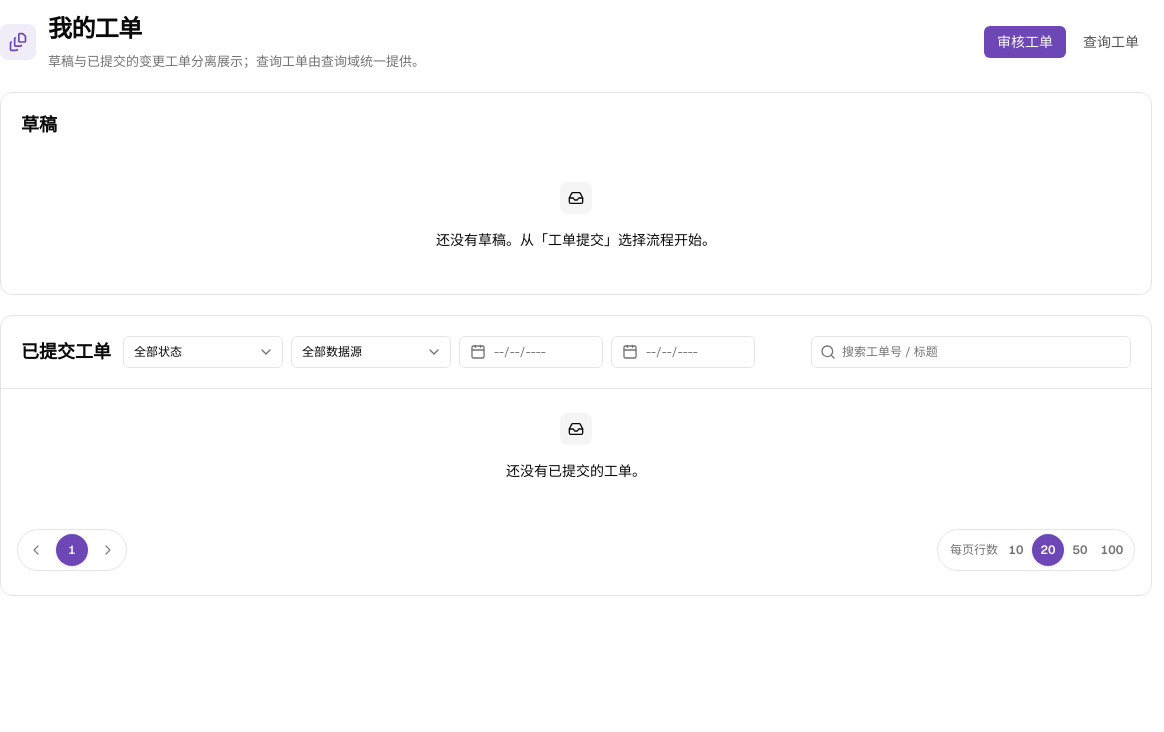
Test: MinePage › renders the unified query-orders tab with its empty state
The width and height of the screenshot is (1164, 732).
Click the tab with test id "tab-query-orders" at (1111, 42), box x1=1070 y1=26 x2=1152 y2=58
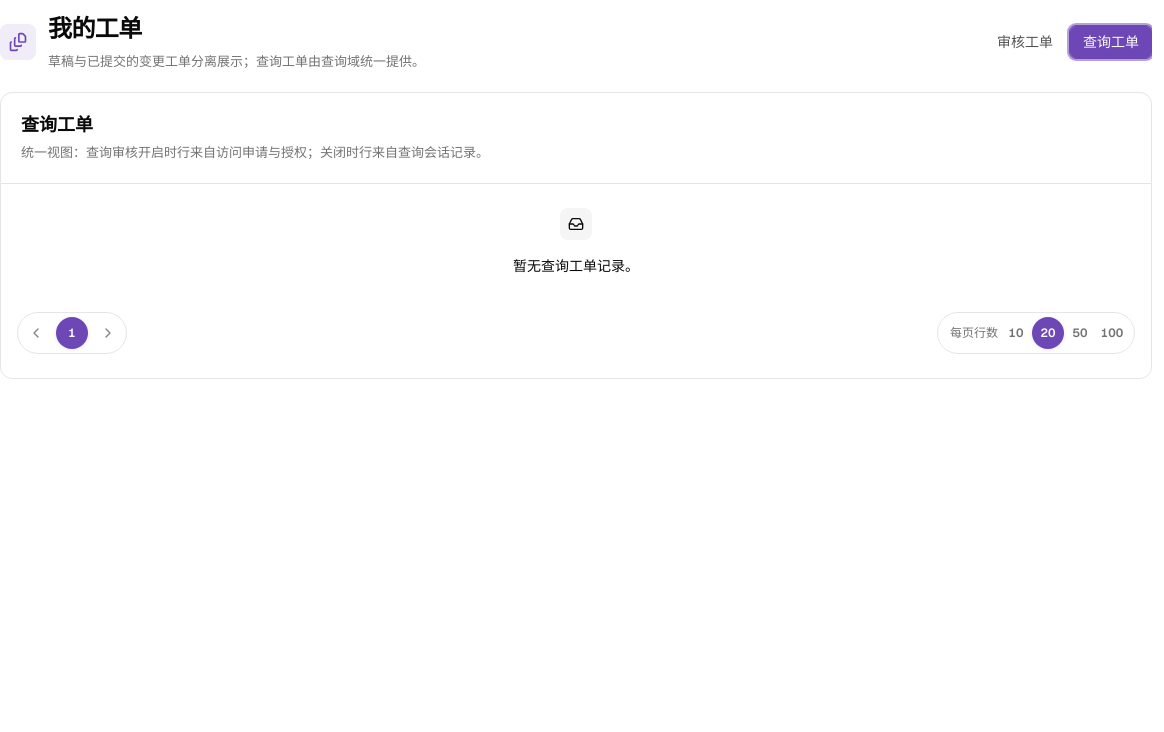
Now the element with test id "orders-query-empty" is shown, box x1=513 y1=208 x2=639 y2=275
Now the element with test id "orders-query-empty" reads "暂无查询工单记录。", box x1=513 y1=257 x2=639 y2=275
